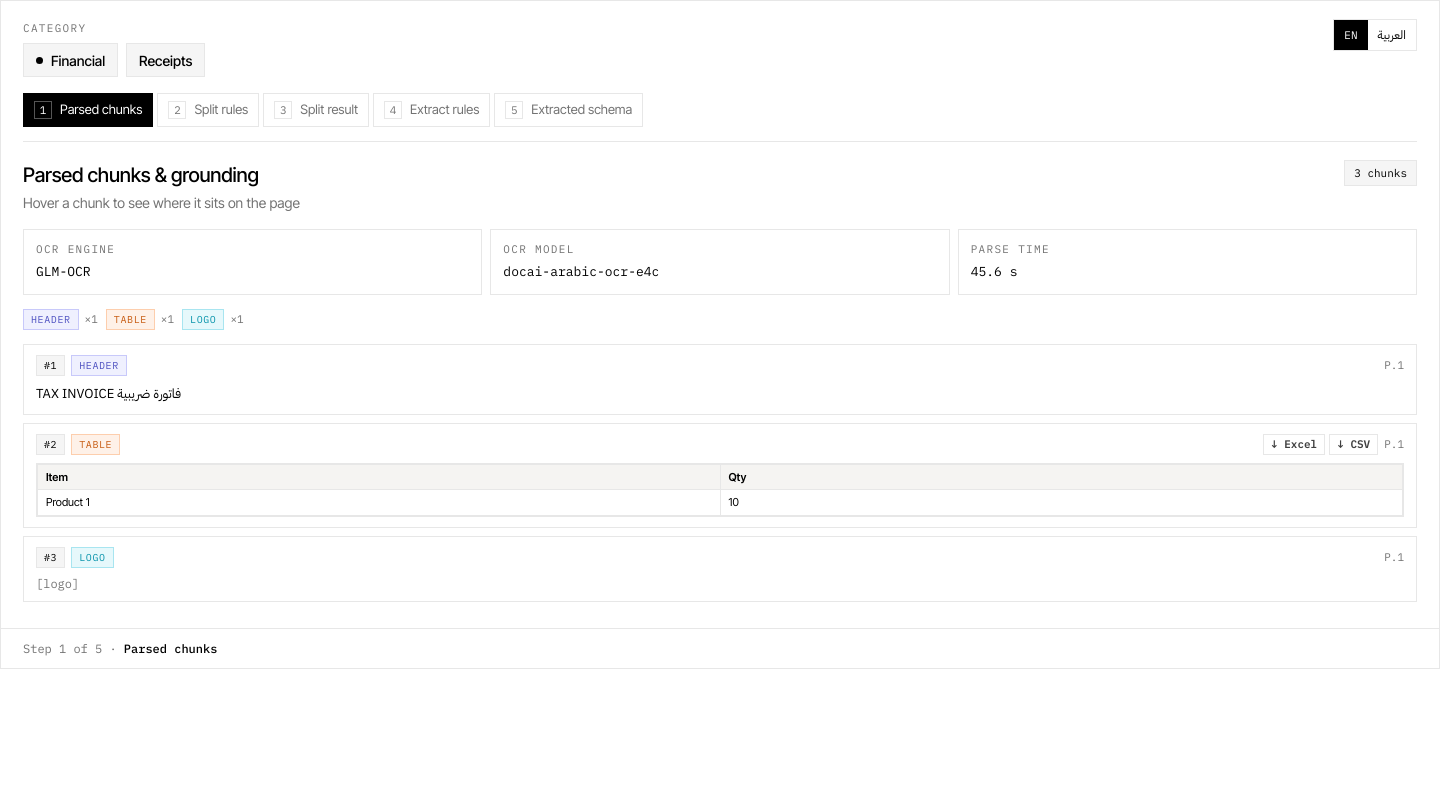
arabic toggle flips direction
The width and height of the screenshot is (1440, 810).
Click the button "العربية": click(1392, 35) [1368, 20, 1416, 50]
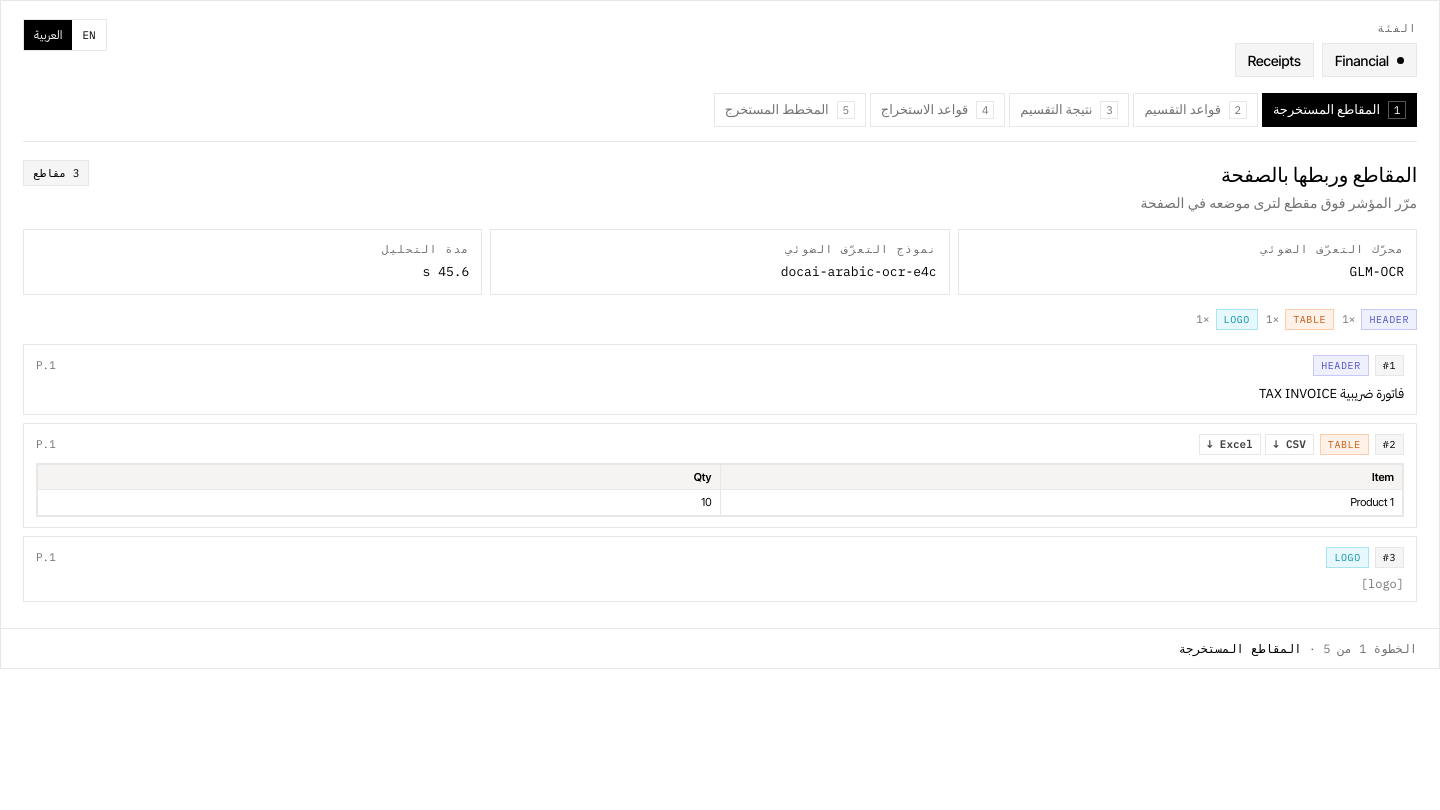
Result: the text "الخطوة 1 من 5" is shown at [1323, 641, 1417, 656]
